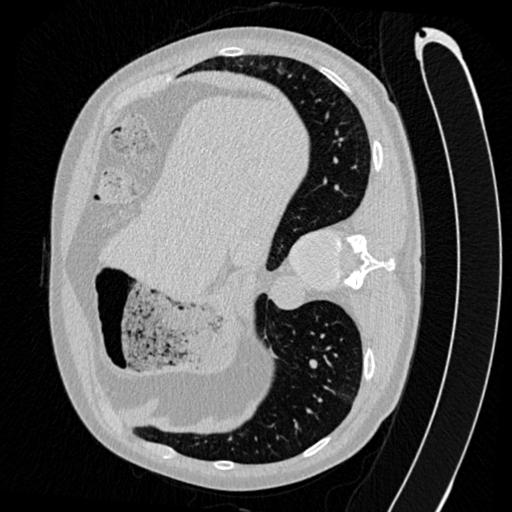nodule: (305, 354, 323, 372)
